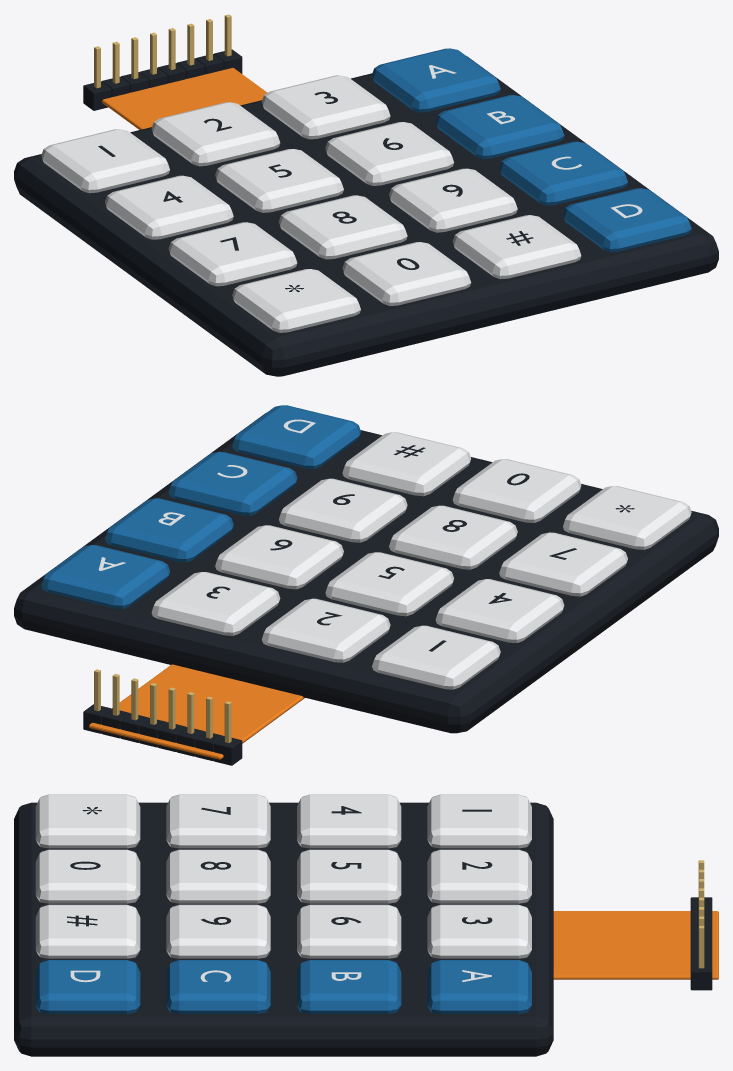
File: keypad.glb
3 views of the same model, one above another, from view 1: azimuth 30°, elevation 25°; view 2: azimuth 150°, elevation 25°; view 3: azimuth 270°, elevation 25° (orthographic). The views are drawn at different scales.
Parts seen in each view (by area): view 1: Static body • white, Static body • black, Static body • blue, Static body • orange, Static body • gold; view 2: Static body • white, Static body • black, Static body • blue, Static body • orange, Static body • gold; view 3: Static body • white, Static body • black, Static body • blue, Static body • orange, Static body • gold.
Part boxes in pixels (bbox=[...]): Static body • white: bbox=[41, 65, 642, 332]; Static body • black: bbox=[14, 49, 718, 376]; Static body • blue: bbox=[372, 48, 691, 252]; Static body • orange: bbox=[102, 68, 267, 129]; Static body • gold: bbox=[94, 14, 231, 88]; Static body • white: bbox=[98, 419, 691, 689]; Static body • black: bbox=[14, 413, 718, 765]; Static body • blue: bbox=[41, 405, 360, 608]; Static body • orange: bbox=[89, 664, 304, 759]; Static body • gold: bbox=[94, 669, 231, 742]; Static body • white: bbox=[35, 794, 531, 982]; Static body • black: bbox=[14, 802, 712, 1056]; Static body • blue: bbox=[35, 960, 531, 1013]; Static body • orange: bbox=[553, 911, 718, 979]; Static body • gold: bbox=[698, 860, 704, 968].
Size of the model in its own units: 62 by 7.61 by 81.
